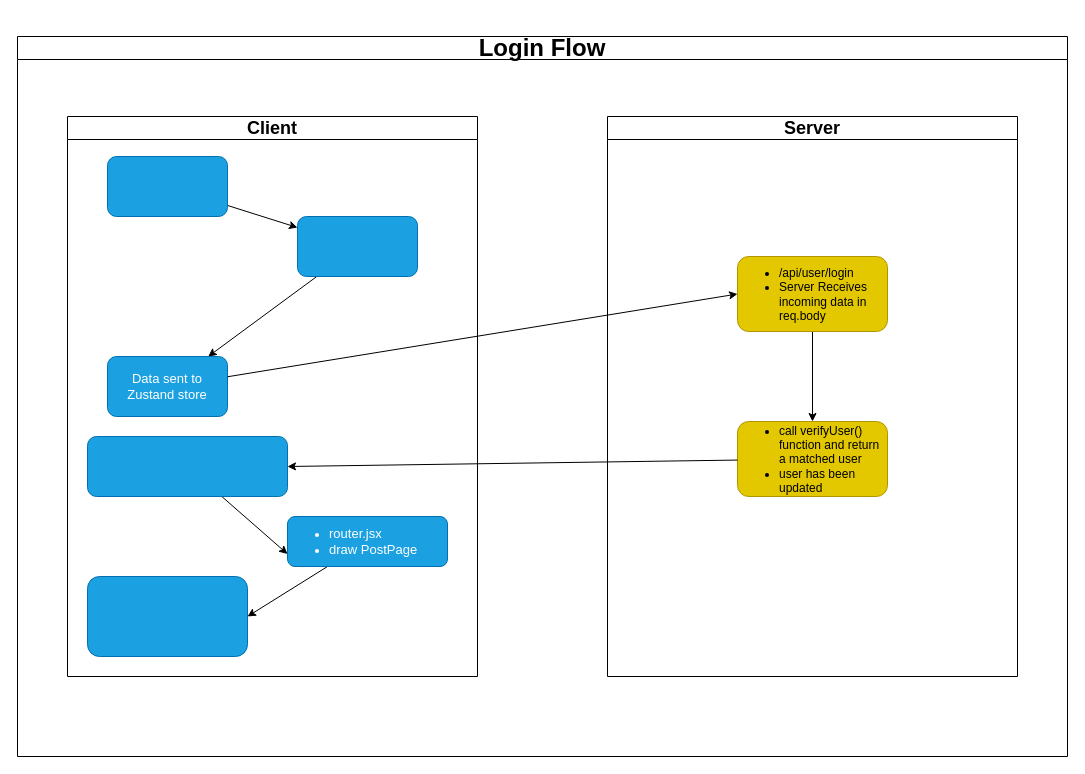
Image size: 1085x774. Some labels were removed from this diagram. Here are the shapes that lost their labels. From the top down, the box of each, then its label:
(106, 156, 228, 216): Visit / Login
(296, 216, 418, 276): Type email & password
(86, 436, 288, 496): Login.page.jsx usefEffect() checks the user has been changed
(86, 576, 248, 656): router. injects Post.page.jsx: PostPage to the Outlet of Layout.jsx
